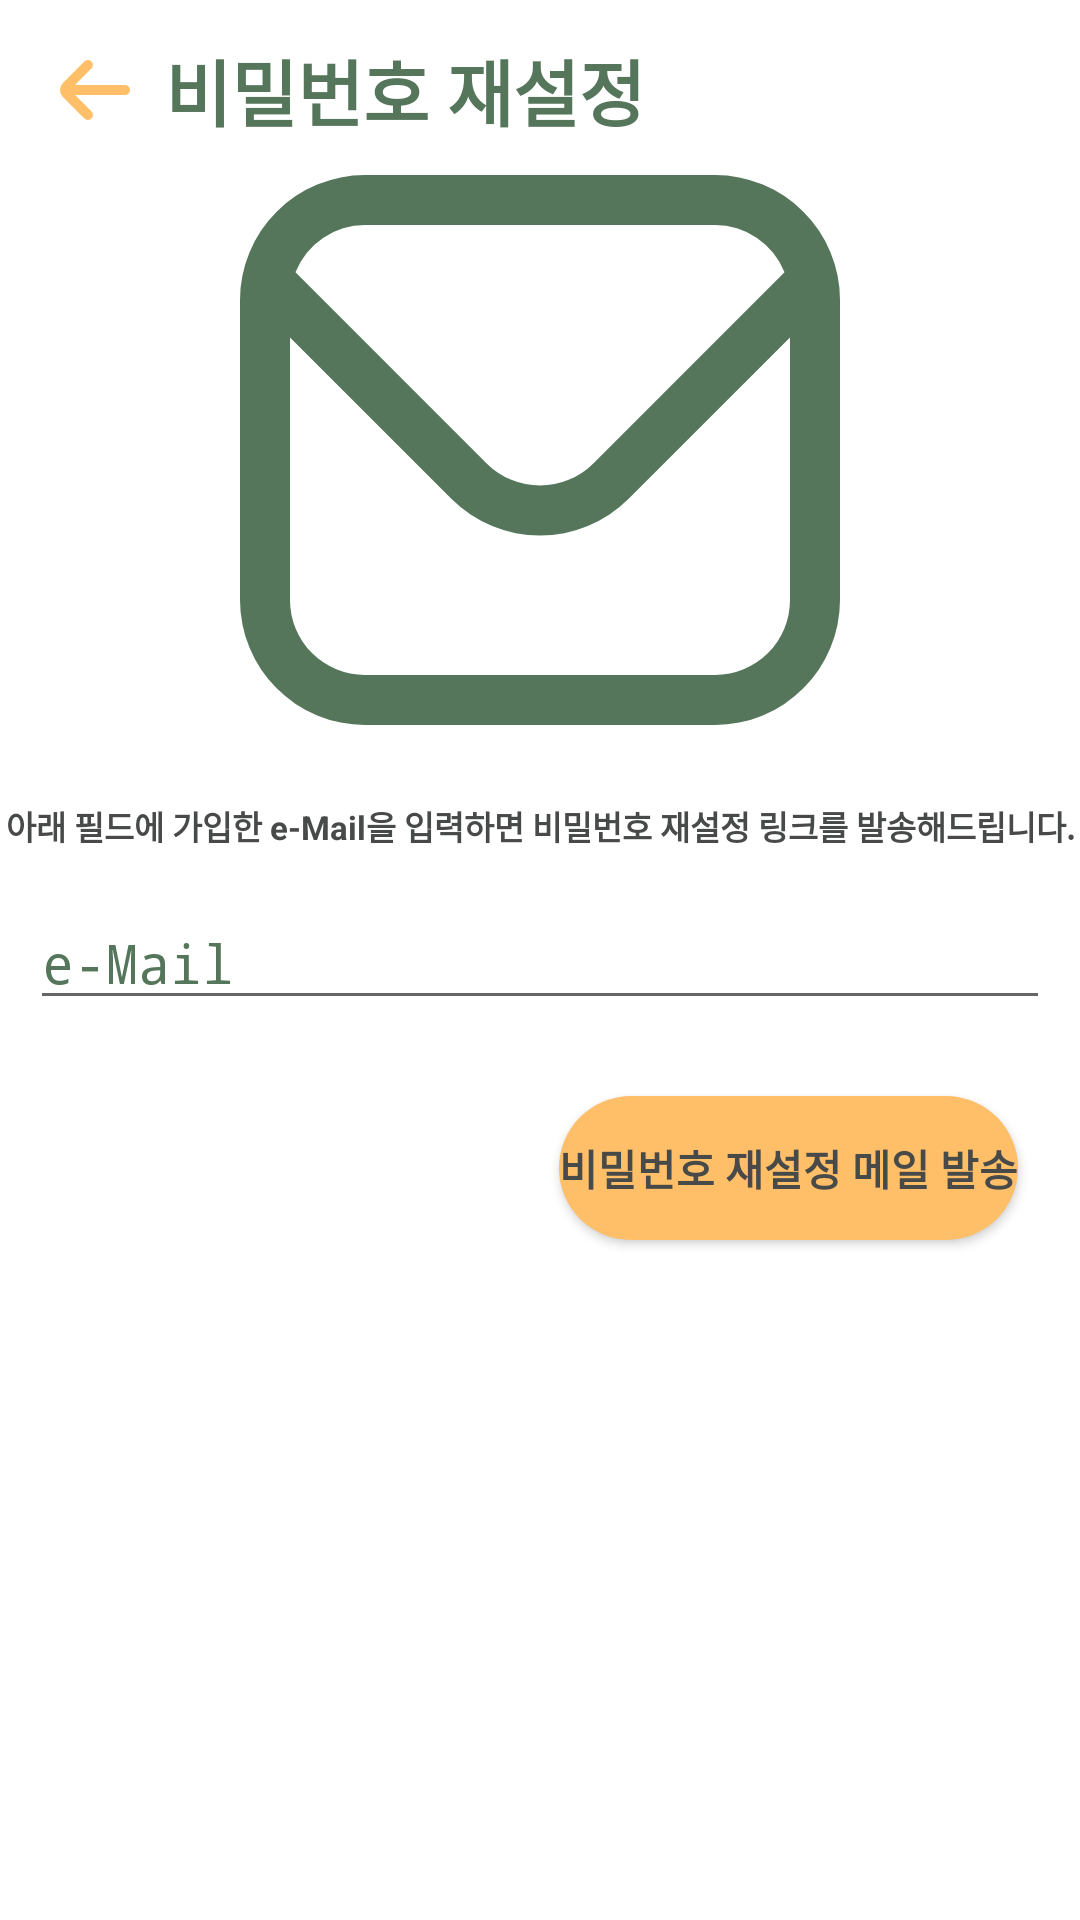

Icons on this 1080×1920 Android screen, each with the point to tap as [x,y]:
back: [95,90]
